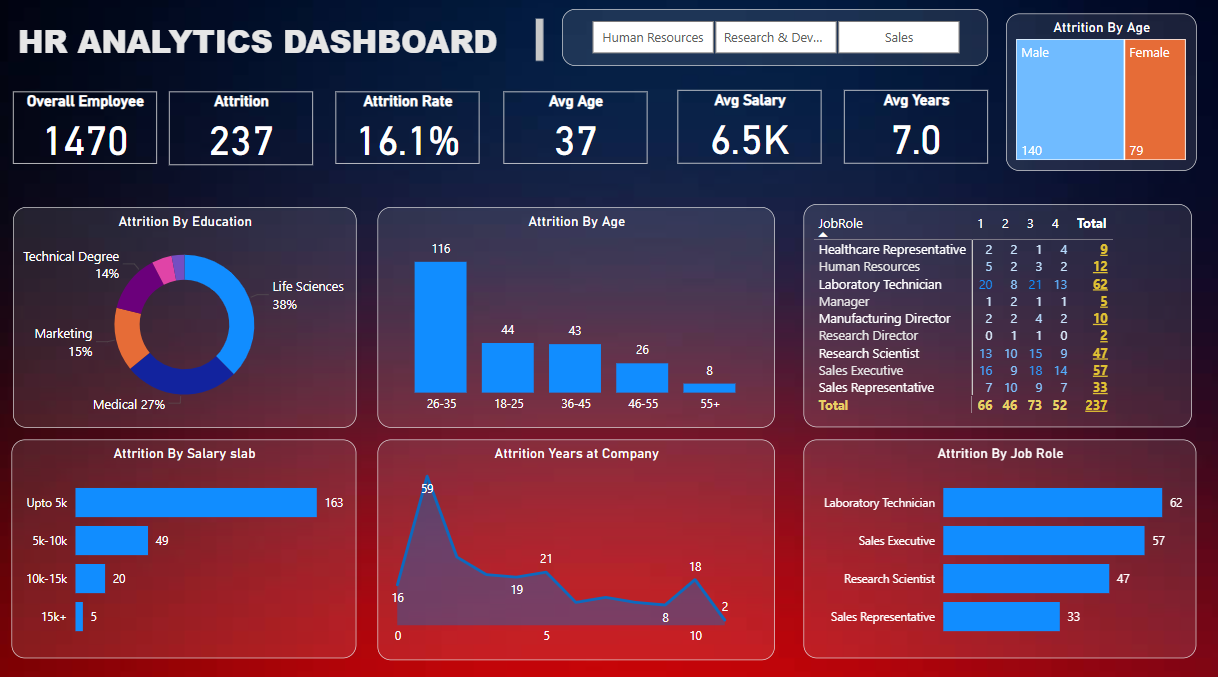

The dashboard page shown, as its layout file describes it:
{"tool":"powerbi","page":{"name":"Page 1","canvas":[1280,720],"ordinal":0},"visuals":[{"type":"card","title":"Overall Employee","fields":{"Values":["CountNonNull(HR_Analytics (1).Age)"]},"box":[21.9,101.6,150,75],"z":0},{"type":"card","title":"Attrition","fields":{"Values":["Sum(HR_Analytics (1).AttritionCount)"]},"box":[184.4,101.6,150,76.6],"z":1000},{"type":"card","title":"Attrition Rate","fields":{"Values":["HR_Analytics (1).AttritionRate"]},"box":[357.9,101.6,150,75],"z":2000},{"type":"card","title":"Avg Age","fields":{"Values":["Avg(HR_Analytics (1).Age)"]},"box":[533,101.6,150,75],"z":3000},{"type":"card","title":"Avg Salary","fields":{"Values":["Avg(HR_Analytics (1).MonthlyIncome)"]},"box":[714.3,100,150,76.6],"z":4000},{"type":"card","title":"Avg Years","fields":{"Values":["Avg(HR_Analytics (1).YearsAtCompany)"]},"box":[887.8,100,150,76.6],"z":5000},{"type":"donutChart","title":"Attrition By Education","fields":{"Category":["HR_Analytics (1).EducationField"],"Y":["Sum(HR_Analytics (1).AttritionCount)"]},"box":[21.9,221.9,357.9,229.8],"z":6000},{"type":"columnChart","title":"Attrition By Age","fields":{"Category":["HR_Analytics (1).AgeGroup"],"Y":["Sum(HR_Analytics (1).AttritionCount)"]},"box":[401.7,221.9,414.2,229.8],"z":7000},{"type":"pivotTable","fields":{"Rows":["HR_Analytics (1).JobRole"],"Columns":["HR_Analytics (1).JobSatisfaction"],"Values":["Sum(HR_Analytics (1).AttritionCount)"]},"box":[845.6,218.8,404.8,232.9],"z":8000},{"type":"barChart","title":"Attrition By Salary slab","fields":{"Category":["HR_Analytics (1).SalarySlab"],"Y":["Sum(HR_Analytics (1).AttritionCount)"]},"box":[20.3,464.2,359.5,228.2],"z":9000},{"type":"barChart","title":"Attrition By Job Role","fields":{"Y":["Sum(HR_Analytics (1).AttritionCount)"],"Category":["HR_Analytics (1).JobRole"]},"box":[845.6,464.2,409.5,228.2],"z":10000},{"type":"areaChart","title":"Attrition Years at Company","fields":{"Category":["HR_Analytics (1).YearsAtCompany"],"Y":["Sum(HR_Analytics (1).AttritionCount)"]},"box":[401.7,464.2,414.2,229.8],"z":11000},{"type":"treemap","title":"Attrition By Age","fields":{"Group":["HR_Analytics (1).Gender"],"Values":["Sum(HR_Analytics (1).AttritionCount)"]},"box":[1056.6,20.3,198.5,164.1],"z":12000},{"type":"slicer","fields":{"Values":["HR_Analytics (1).Department"]},"box":[593.9,15.6,443.9,59.4],"z":13000},{"type":"textbox","box":[21.9,20.3,558,54.7],"z":14000}]}

Visuals, with their boxes in screenshot pixels (x1, y1, x2, y2), scaled from the page's 1280x720 canvas onto the 1218x677 screenshot:
"Overall Employee" card: bbox(21, 96, 164, 166)
"Attrition" card: bbox(175, 96, 318, 168)
"Attrition Rate" card: bbox(341, 96, 483, 166)
"Avg Age" card: bbox(507, 96, 650, 166)
"Avg Salary" card: bbox(680, 94, 822, 166)
"Avg Years" card: bbox(845, 94, 988, 166)
"Attrition By Education" donutChart: bbox(21, 209, 361, 425)
"Attrition By Age" columnChart: bbox(382, 209, 776, 425)
pivotTable - HR_Analytics (1).JobRole x HR_Analytics (1).JobSatisfaction: bbox(805, 206, 1190, 425)
"Attrition By Salary slab" barChart: bbox(19, 436, 361, 651)
"Attrition By Job Role" barChart: bbox(805, 436, 1194, 651)
"Attrition Years at Company" areaChart: bbox(382, 436, 776, 653)
"Attrition By Age" treemap: bbox(1005, 19, 1194, 173)
slicer - HR_Analytics (1).Department: bbox(565, 15, 988, 71)
textbox: bbox(21, 19, 552, 71)
